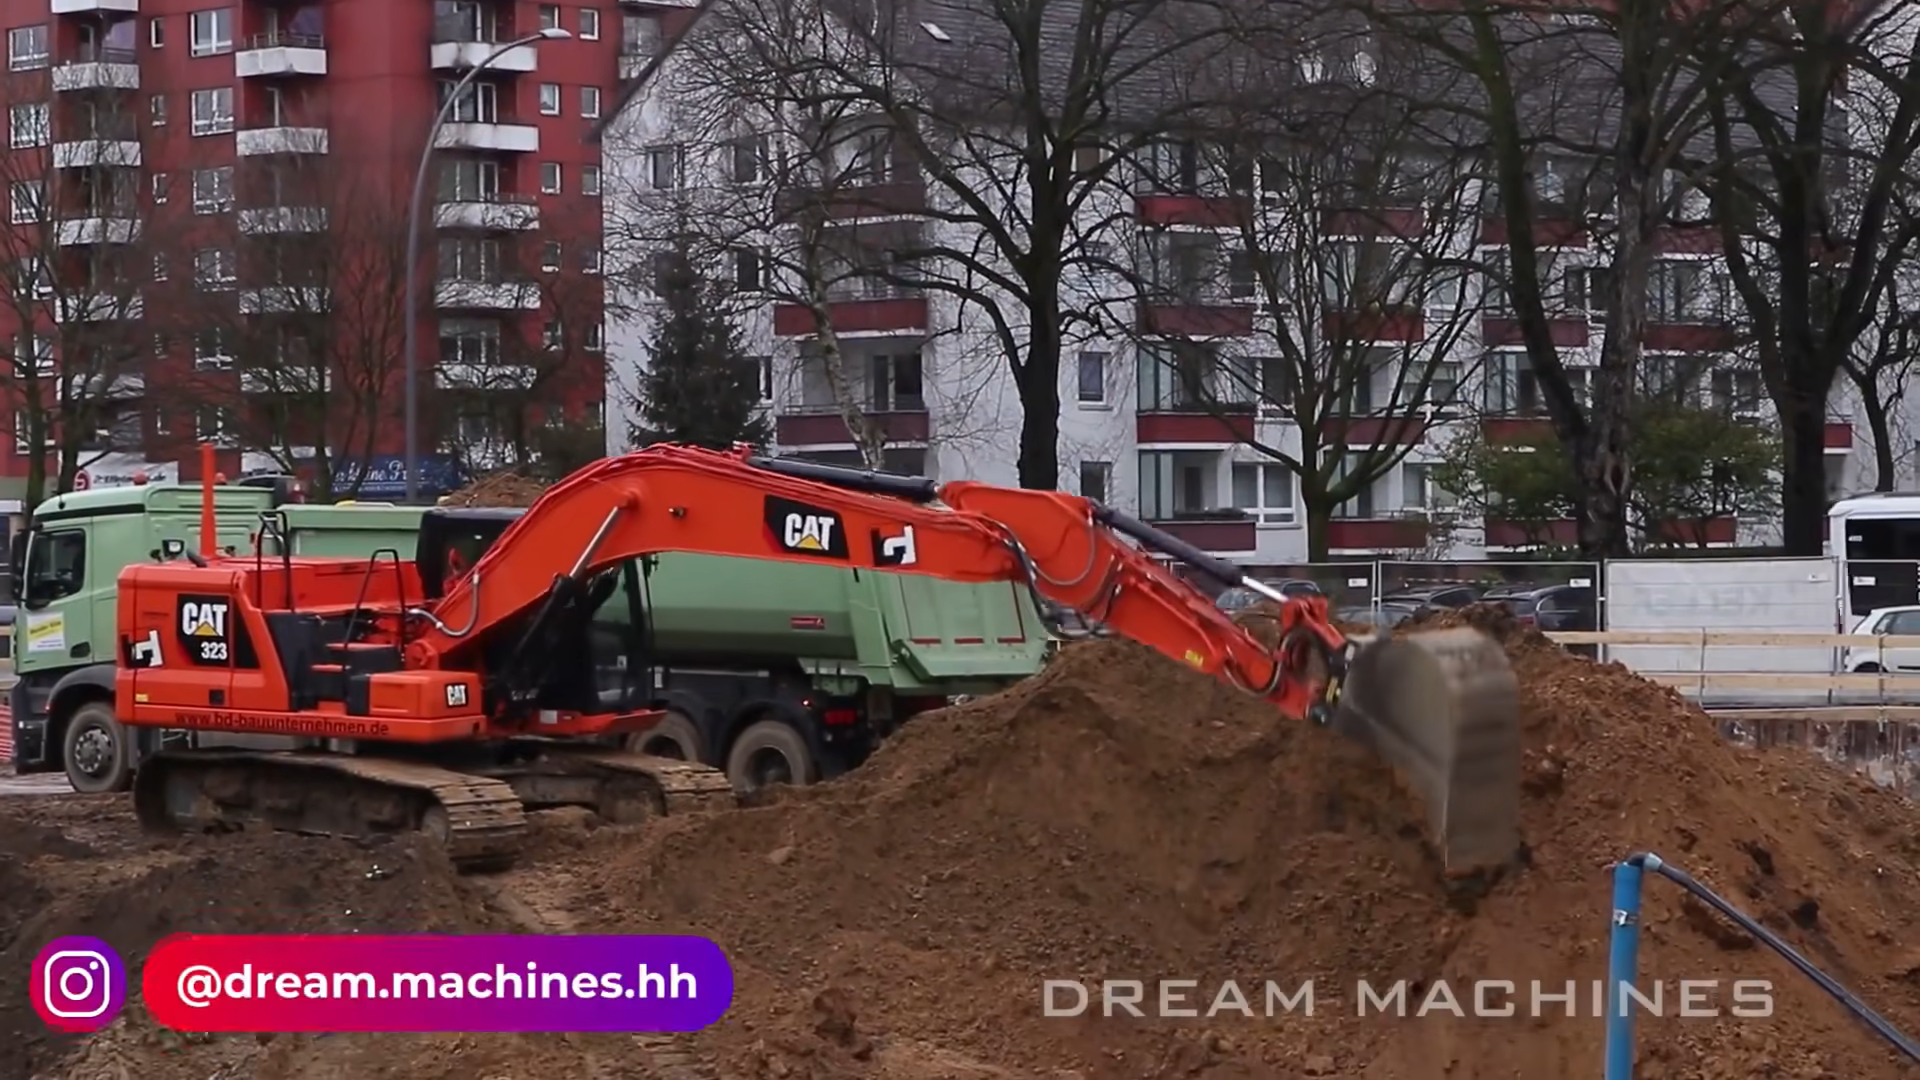excavator: (69, 427, 1592, 874)
